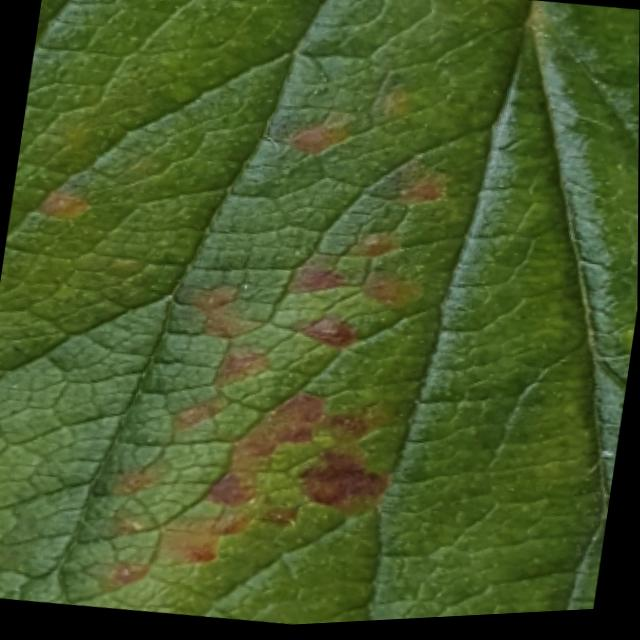Angular Leafspot: (16, 13, 459, 603)
